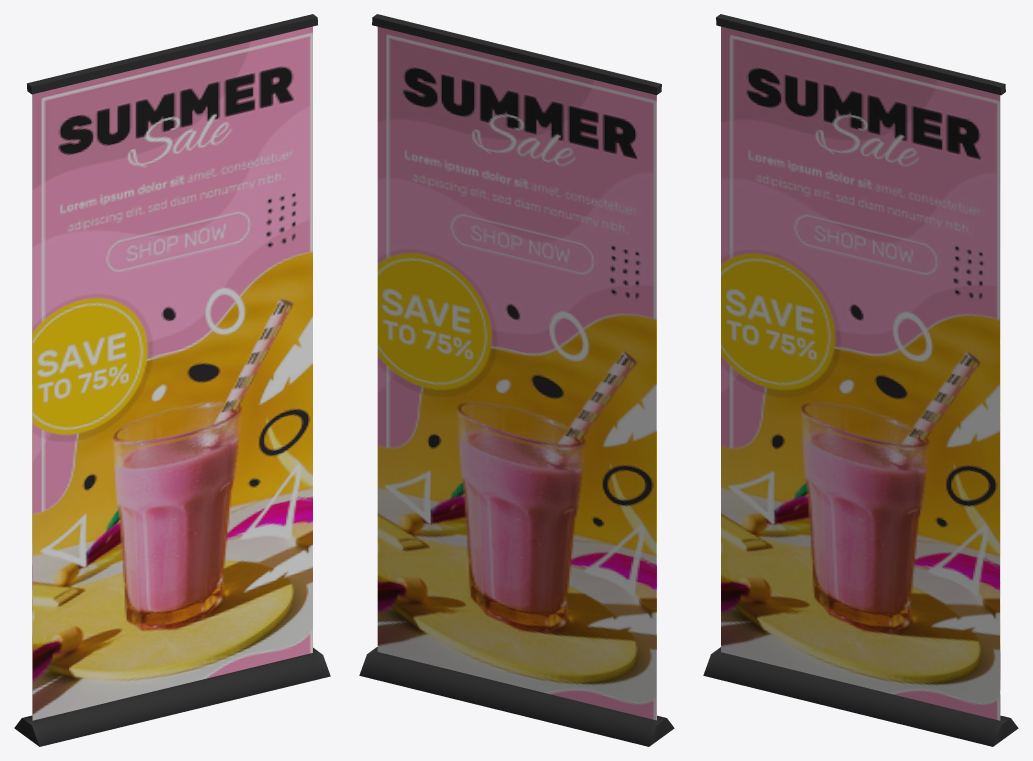
The model's file is JuiceStandee.fbx.
3 views of the same model, side by side, from view 1: azimuth 30°, elevation 25°; view 2: azimuth 150°, elevation 25°; view 3: azimuth 330°, elevation 25° (orthographic).
Visible parts, largest first — view 1: JuiceStandee; view 2: JuiceStandee; view 3: JuiceStandee.
Boxes of the visible parts, left/top/right/bottom form: JuiceStandee: left=14, top=14, right=330, bottom=746; JuiceStandee: left=359, top=14, right=674, bottom=746; JuiceStandee: left=703, top=14, right=1018, bottom=746.
Bounding box in the file's own units: 72.06 × 154 × 11.21.
